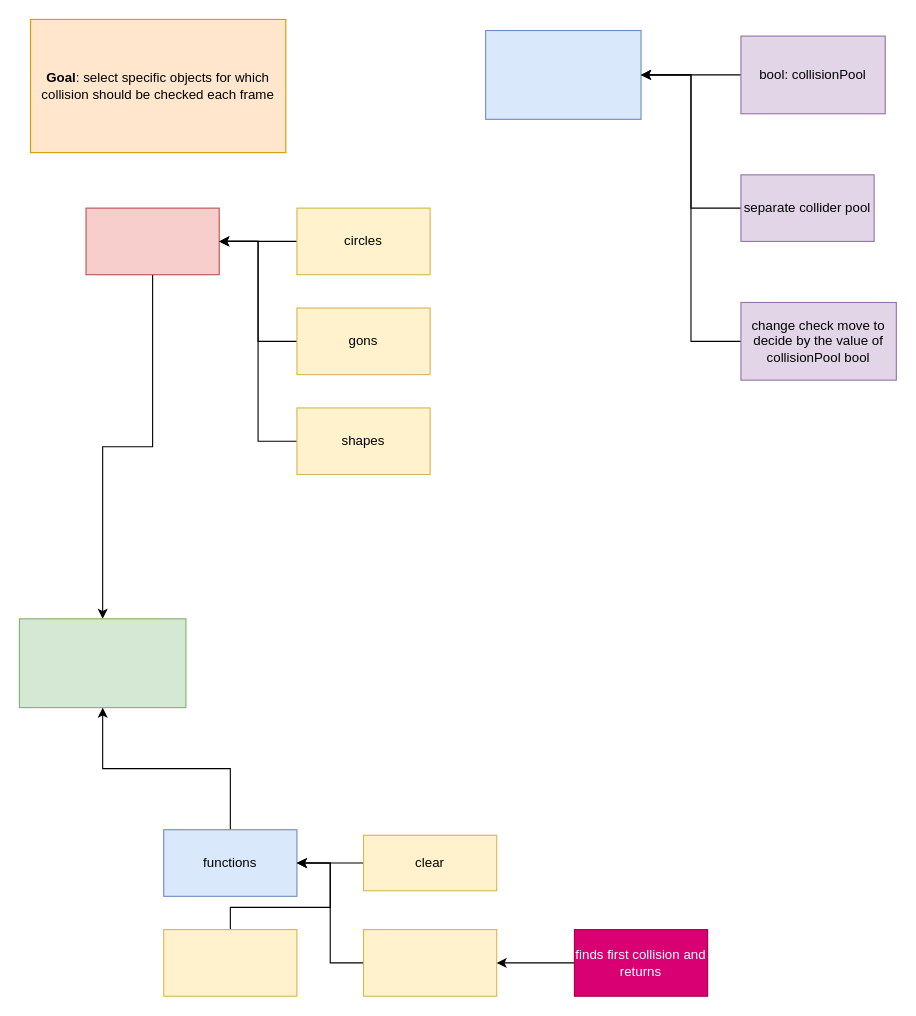
Some shapes in this 916 by 1016 pixel diagram are drawn without their labels. Here are the shapes that lost their labels. From the top down, the centre of each, then its label:
At [563,74]: "Spherical camera modifications".
At [152,241]: "3 lists".
At [102,663]: "Collider Pool".
At [230,962]: "rayCastColliders".
At [429,962]: "collideCircle".
